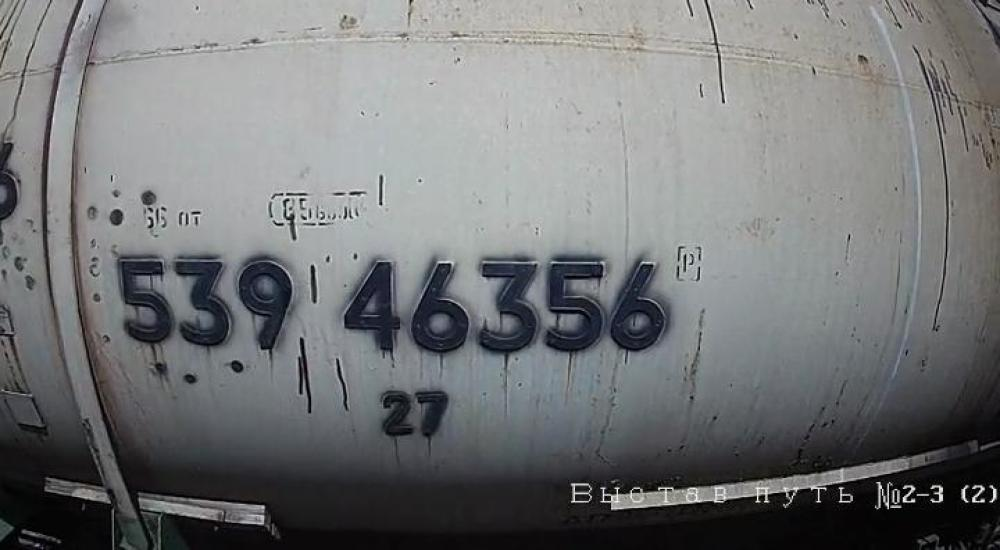Wagon-number: (114, 244, 672, 356)
